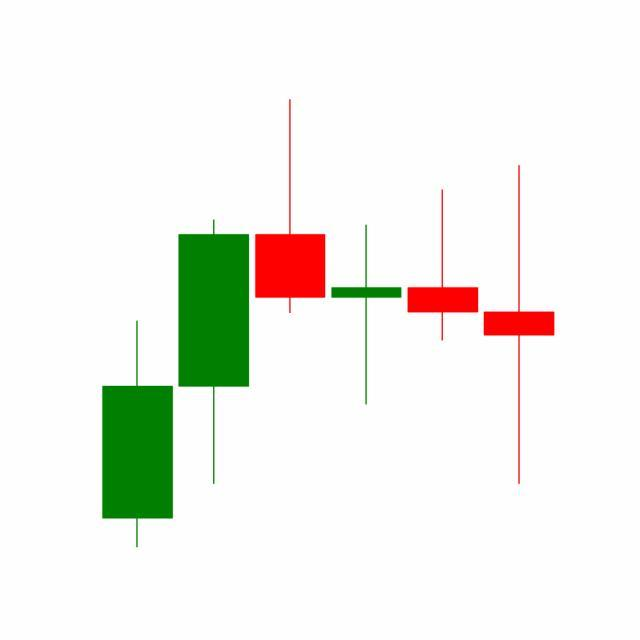Spinning Top: (404, 187, 482, 343)
